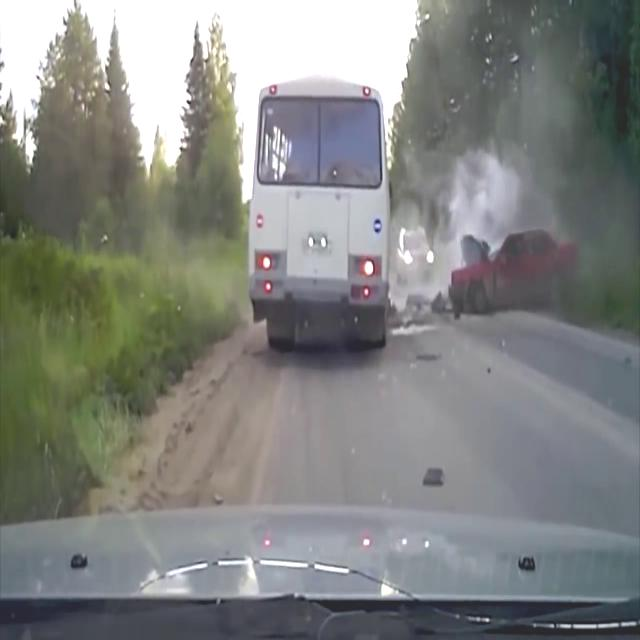accident: (384, 229, 582, 335)
